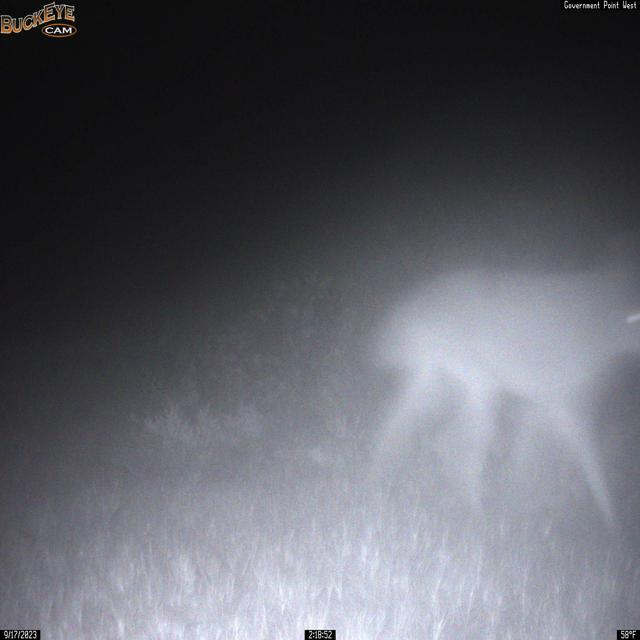coyote: (362, 247, 640, 553)
